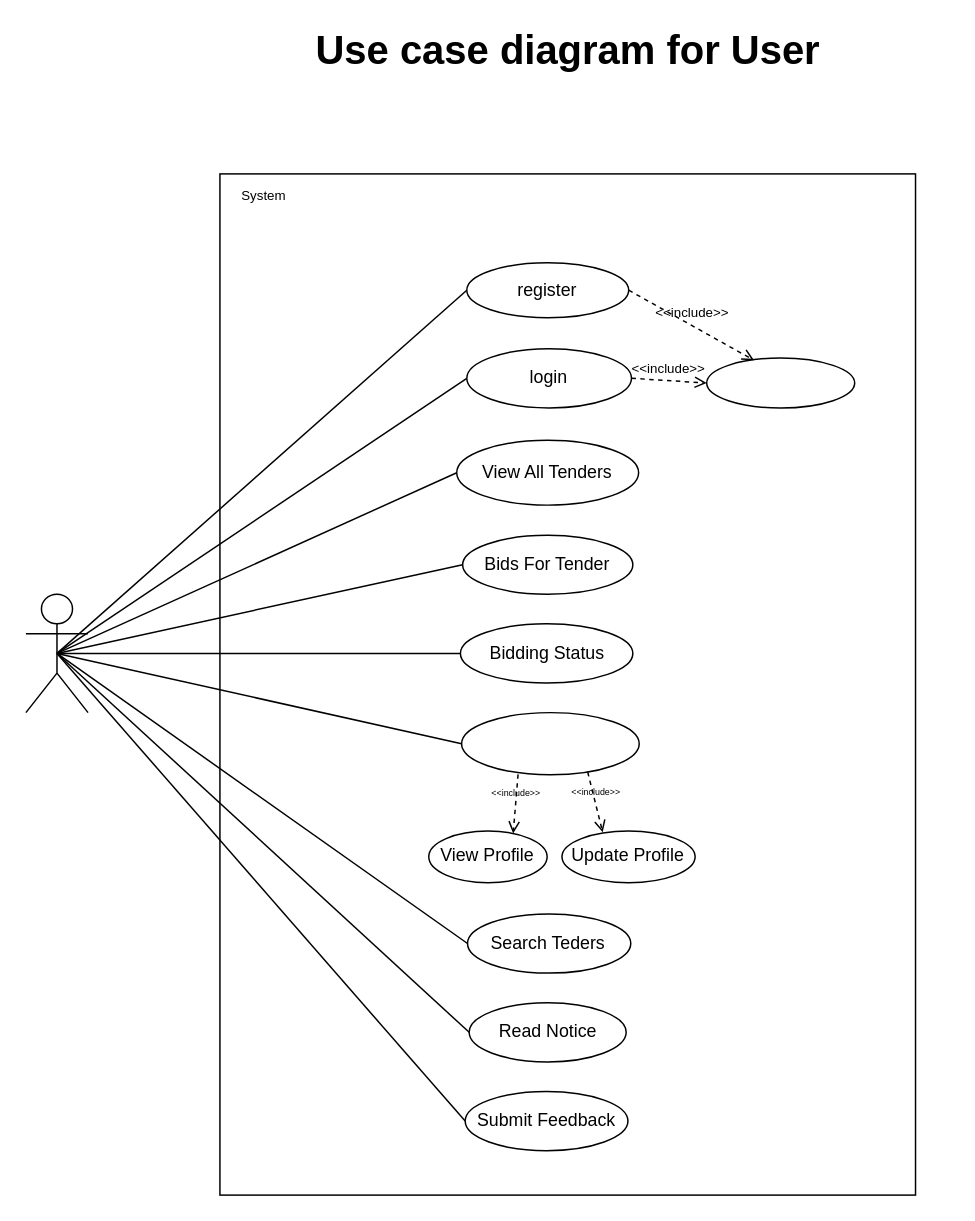
Image size: 975x1221. Some labels were removed from this diagram. The centre of each missing label's shape, as x and y in pixels:
"Authentication" goes at (x=780, y=382).
"Manage Profile" goes at (x=549, y=743).
"User" goes at (x=56, y=653).
